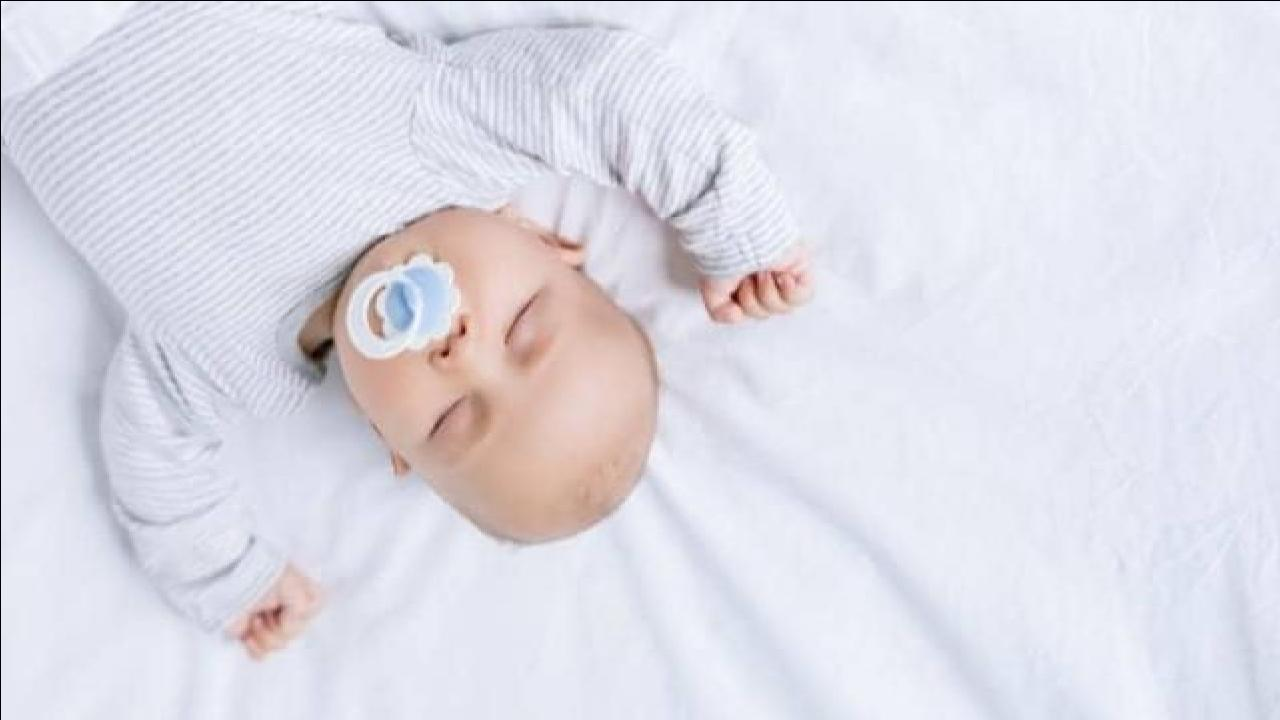hand: (691, 257, 814, 325), (225, 579, 318, 659)
